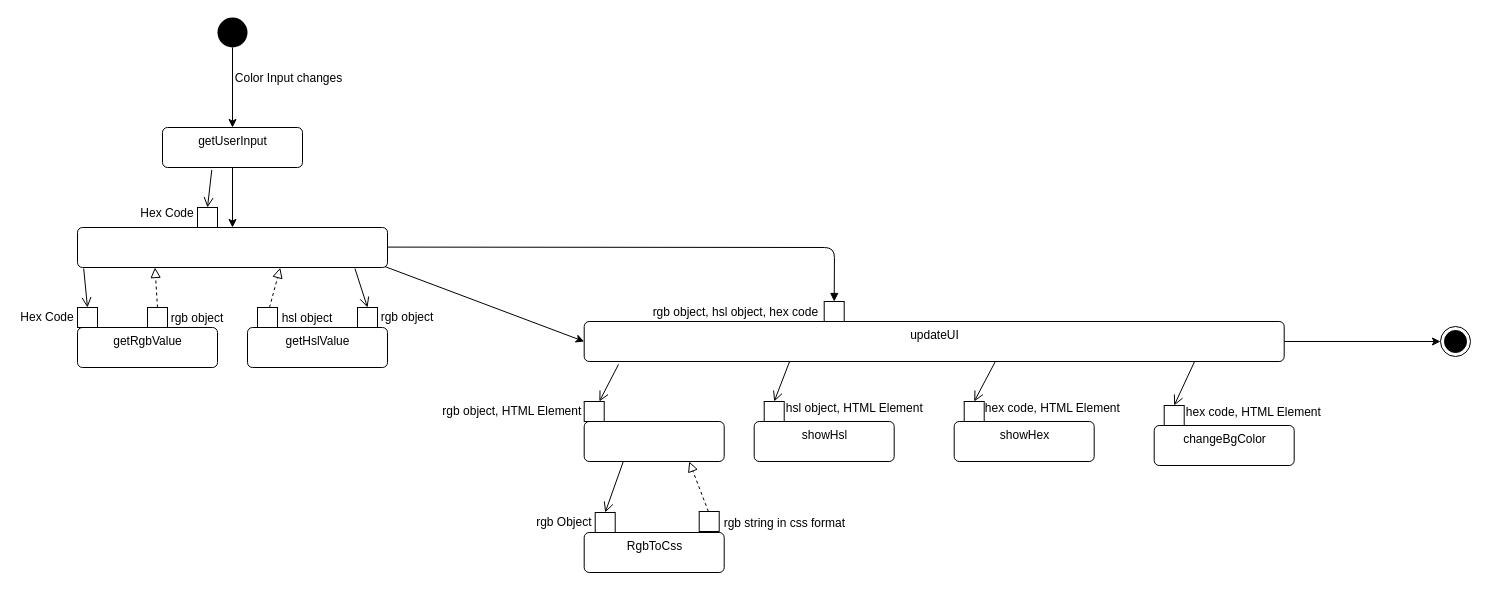
Image size: 1488x590. Some labels were removed from this diagram. Here are the shapes that lost their labels. From the top down, the centre of each, then its label:
At [232,247]: "getColorValues".
At [653,441]: "showRgb".
